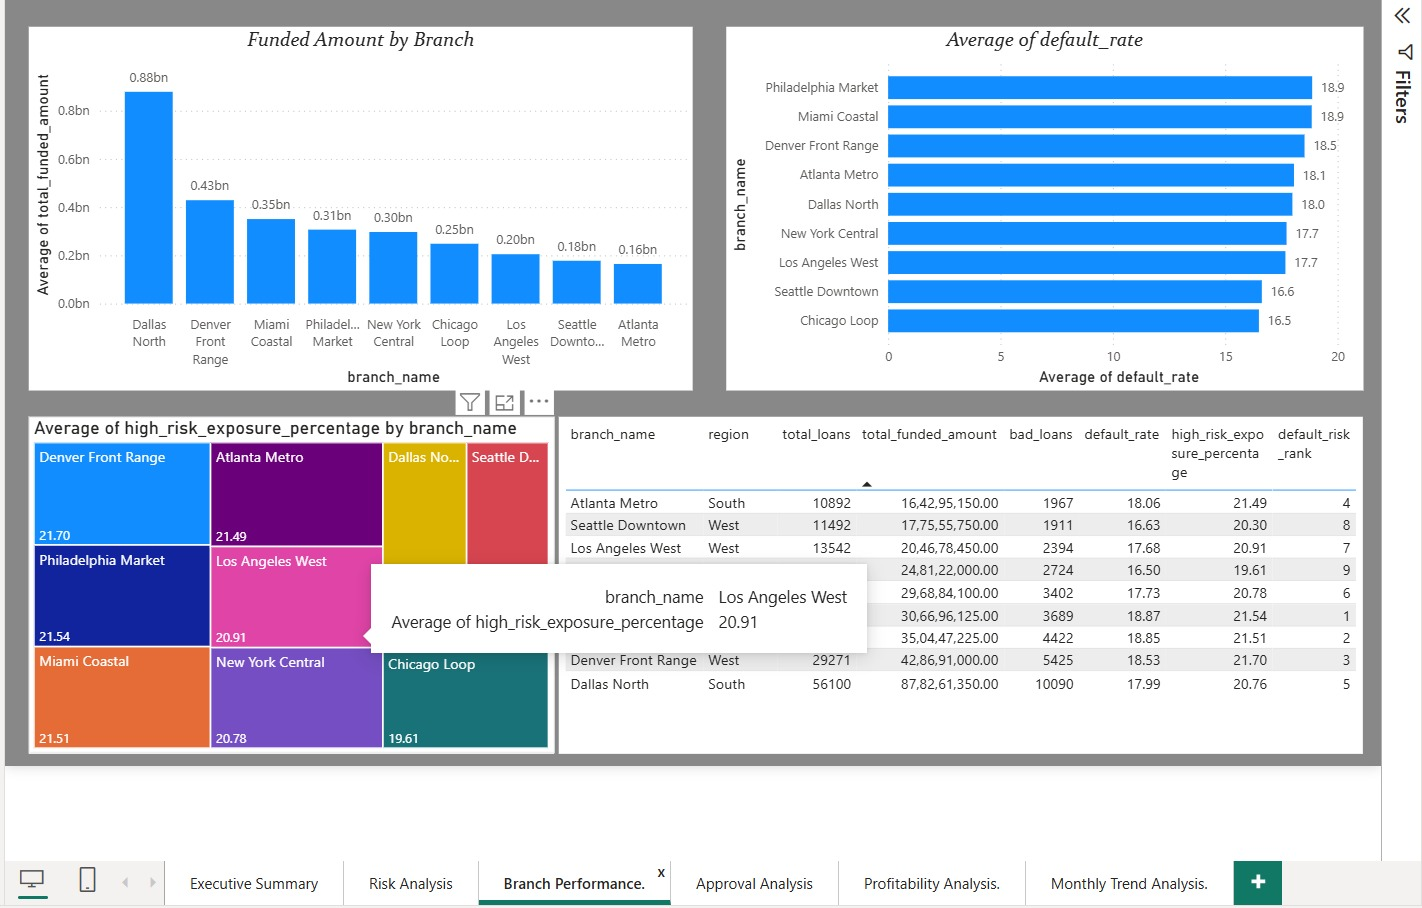

The dashboard page shown, as its layout file describes it:
{"tool":"powerbi","page":{"name":"Branch Performance.","canvas":[1280,720],"ordinal":2},"visuals":[{"type":"clusteredBarChart","title":"Average of default_rate","fields":{"Category":["Branch Performance.branch_name"],"Y":["Avg(Branch Performance.default_rate)"]},"box":[670.4,31.6,592.7,338.5],"z":0},{"type":"treemap","fields":{"Group":["Branch Performance.branch_name"],"Values":["Avg(Branch Performance.high_risk_exposure_percentage)"]},"box":[22.4,393.8,488.7,313.5],"z":1000},{"type":"clusteredColumnChart","title":"Funded Amount by Branch","fields":{"Category":["Branch Performance.branch_name"],"Y":["Avg(Branch Performance.total_funded_amount)"]},"box":[22.4,31.6,617.7,338.5],"z":2000},{"type":"tableEx","fields":{"Values":["Branch Performance.branch_name","Branch Performance.region","Branch Performance.total_loans","Branch Performance.total_funded_amount","Branch Performance.bad_loans","Branch Performance.default_rate","Branch Performance.high_risk_exposure_percentage","Branch Performance.default_risk_rank"]},"box":[515,393.8,748.1,313.5],"z":3000}]}

Visuals, with their boxes on the page's 1280x720 design canvas (x1, y1, x2, y2). These are canvas units, not pixel positions in the 1422x908 screenshot, which may show the page scaled, cropped or inside an application window:
"Average of default_rate" clusteredBarChart: [x1=670, y1=32, x2=1263, y2=370]
treemap - Branch Performance.branch_name x Avg(Branch Performance.high_risk_exposure_percentage): [x1=22, y1=394, x2=511, y2=707]
"Funded Amount by Branch" clusteredColumnChart: [x1=22, y1=32, x2=640, y2=370]
tableEx - Branch Performance.branch_name x Branch Performance.region: [x1=515, y1=394, x2=1263, y2=707]
